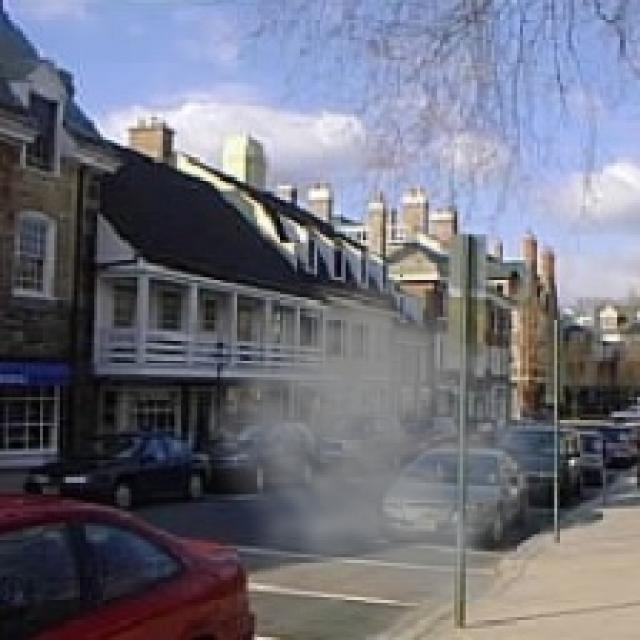smoke: (188, 237, 572, 603)
